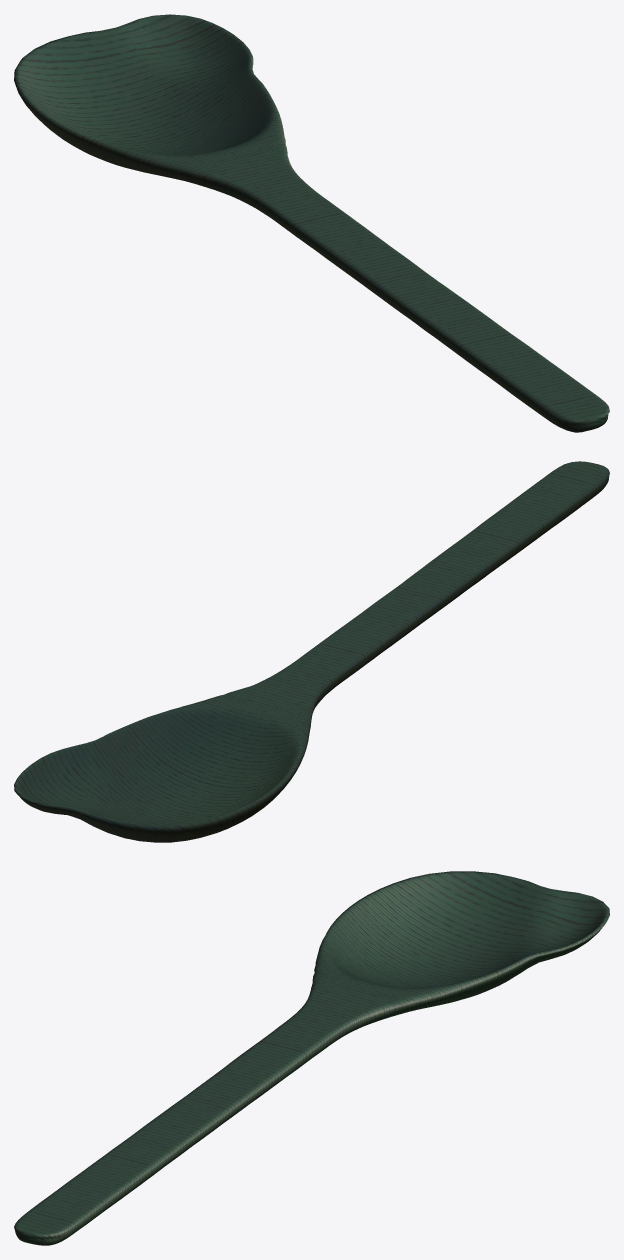
Rendered from 07_Tumor.glb.
3 renders of one model, top to bottom at view 1: azimuth 30°, elevation 25°; view 2: azimuth 150°, elevation 25°; view 3: azimuth 330°, elevation 25°, orthographic. The views are drawn at different scales.
Parts seen in each view (by area): view 1: 07_Tumor; view 2: 07_Tumor; view 3: 07_Tumor.
Boxes of the visible parts, <box> form: 07_Tumor: <box>14,14,609,432</box>; 07_Tumor: <box>14,461,609,842</box>; 07_Tumor: <box>14,871,609,1245</box>.
Bounding box in the file's own units: 0.0511 × 0.0116 × 0.2048.
1 material, 1 textured.
